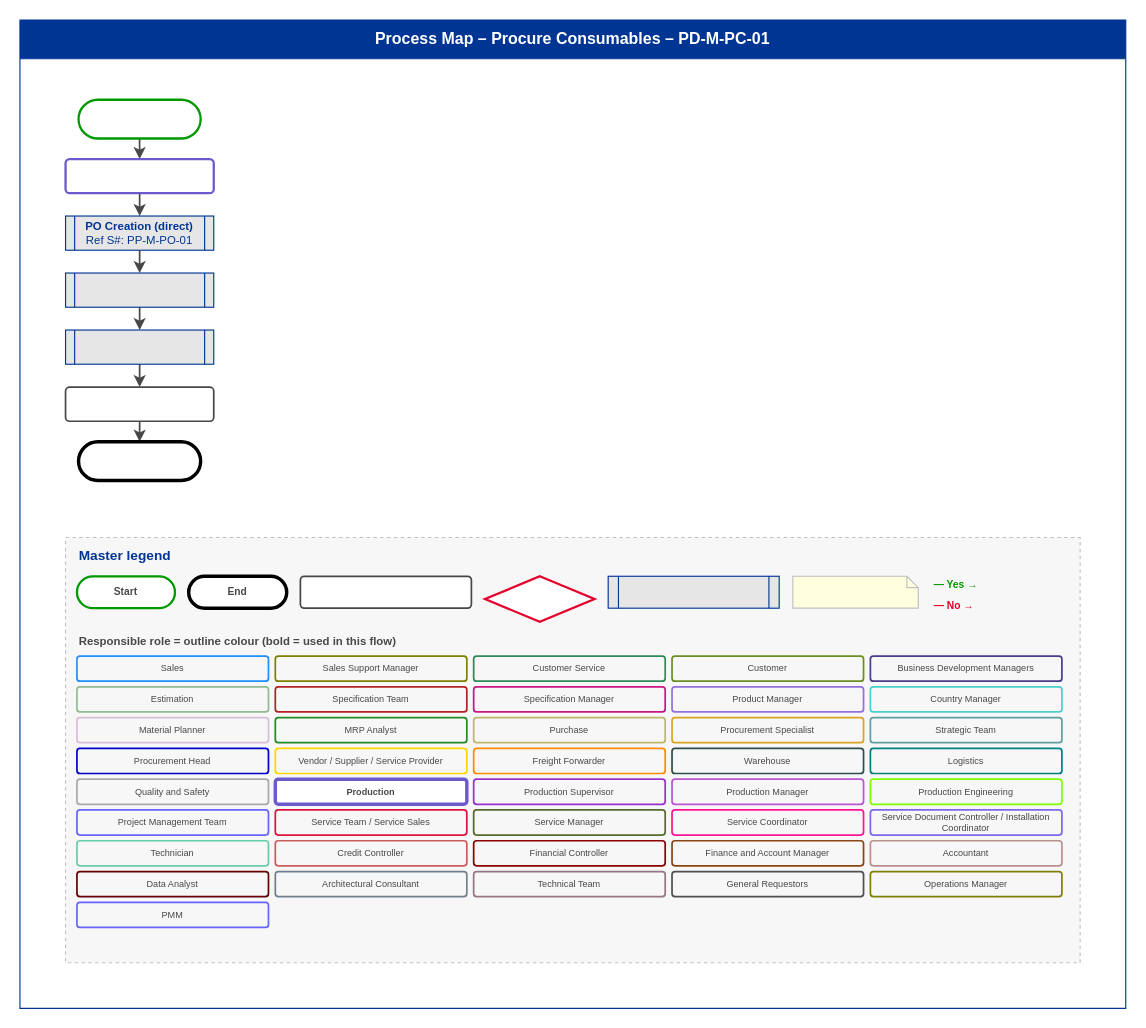
Some shapes in this 1146 by 1028 pixel diagram are drawn without their labels. The box of each missing label's shape, as (x1, y1, x2, y2) in pixels:
Activity (outline = role): (299, 575, 472, 609)
Complete: (76, 439, 202, 482)
Decision: (483, 575, 595, 622)
Generate PR for Material to be procured: (64, 157, 214, 194)
Goods Shipment Indirect Ref: PP-M-GS-01: (64, 272, 214, 307)
Linked process (Ref ID): (607, 575, 779, 608)
Note / checklist: (792, 575, 918, 608)
PO Inbound Ref S#: WL-M-IB-01: (64, 329, 214, 364)
Production storekeeper to stock & update in SAP: (64, 386, 214, 422)
Start Process: (77, 98, 201, 139)
